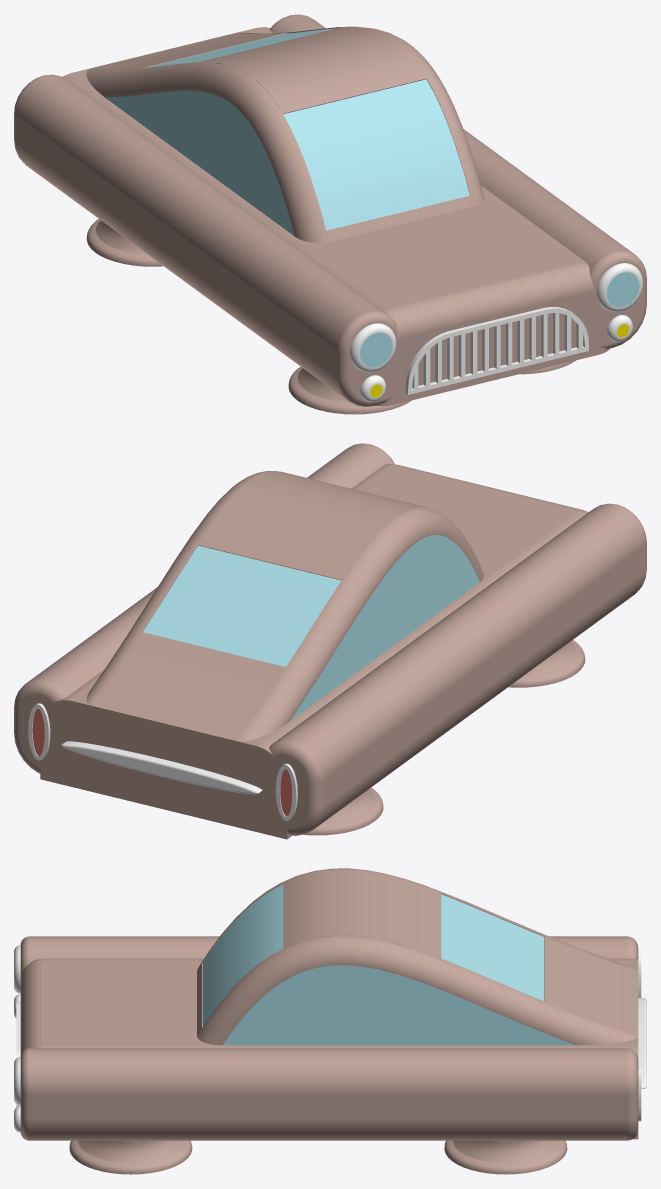
The model's file is autito db4.fbx.
3 renders of one model, top to bottom at view 1: azimuth 30°, elevation 25°; view 2: azimuth 150°, elevation 25°; view 3: azimuth 270°, elevation 25°, orthographic. The views are drawn at different scales.
Visible parts, largest first — view 1: autito; view 2: autito; view 3: autito.
Boxes of the visible parts, x1,y1,x2,y2 form: autito: (14,14,646,414); autito: (14,443,646,839); autito: (14,868,646,1174).
Size of the model in its own units: 206 by 143 by 395.
